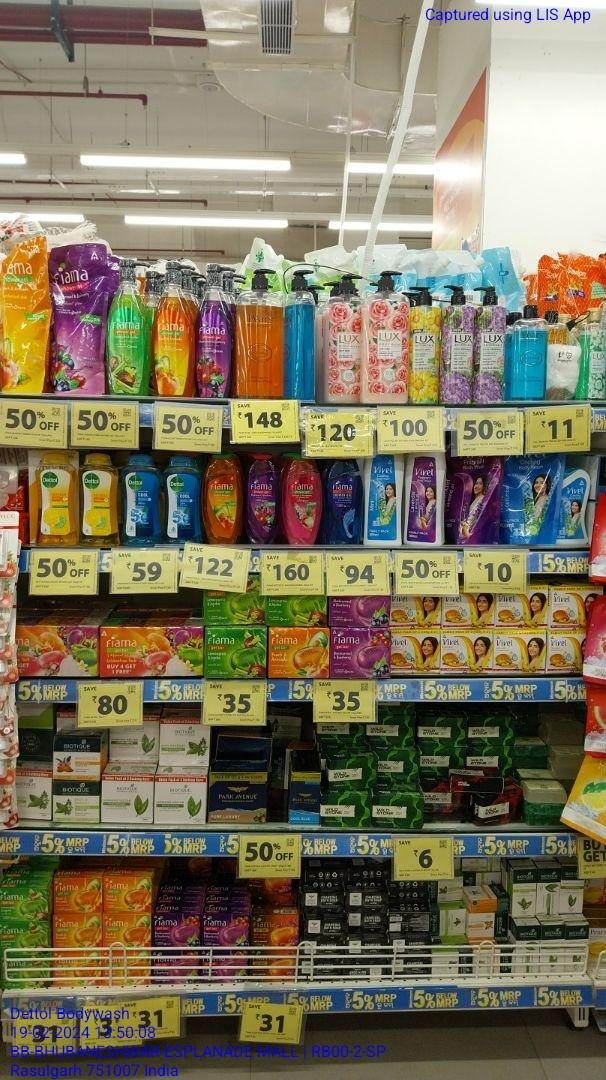Dettol_Bodywash_Cool: (119, 453, 163, 546), (163, 455, 200, 541)
Dettol_Bodywash_Refresh: (83, 452, 119, 544)
Fiama_Shower_Gel_Patchouli_and_Macadamia_250ML: (283, 450, 322, 548)
Fiama_Shower_Gel_Peach_and_Avocado_250ML: (200, 454, 240, 542)
